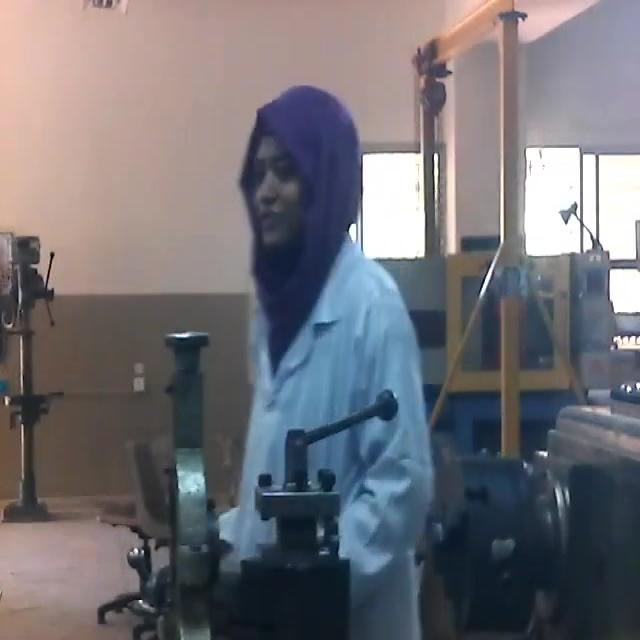labcoat: (231, 217, 433, 640)
